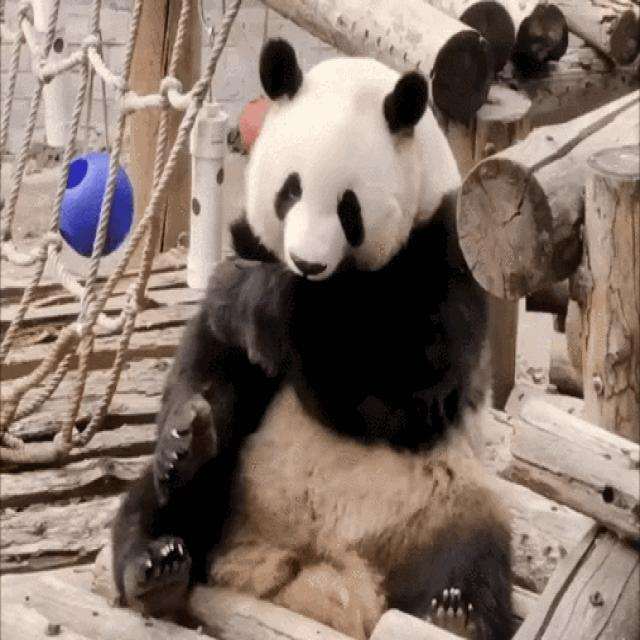panda: (123, 34, 580, 619)
